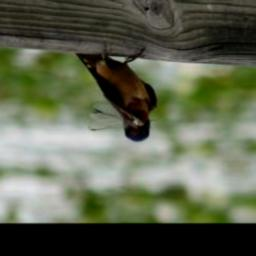Swallow: (75, 41, 157, 143)
